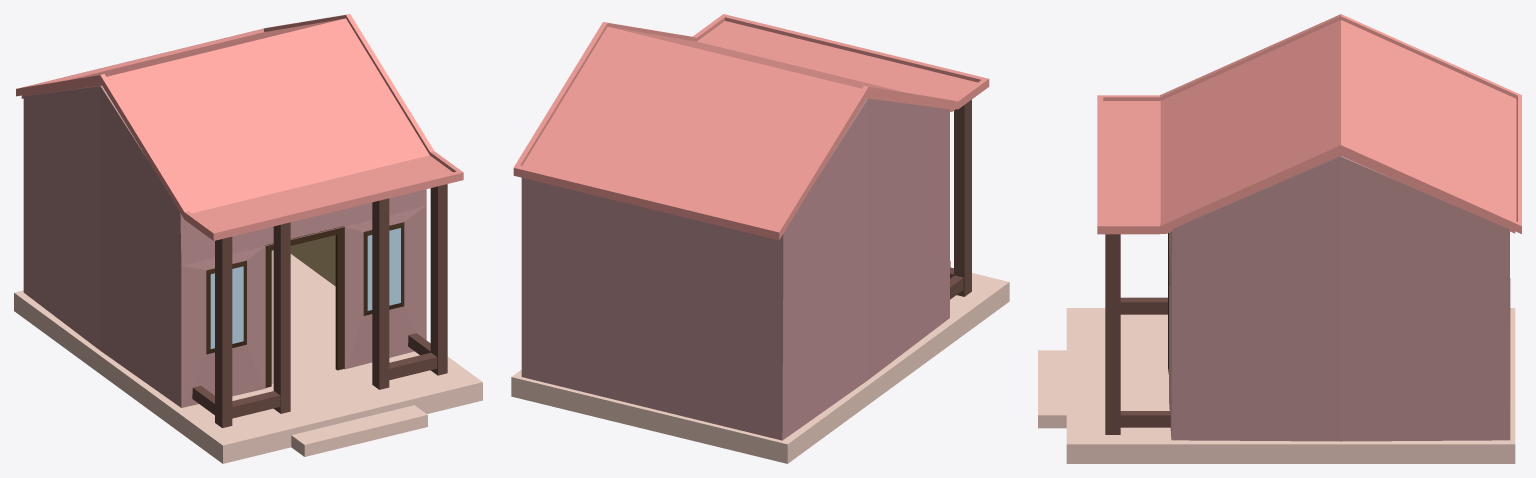
The model's file is REMAKE_pantry_3.fbx.
The picture shows the model from 3 angles, left to right: view 1: azimuth 30°, elevation 25°; view 2: azimuth 150°, elevation 25°; view 3: azimuth 270°, elevation 25°; orthographic projection. The views are drawn at different scales.
Visible parts, largest first — view 1: pantry.001; view 2: pantry.001; view 3: pantry.001.
Part boxes in pixels (x1=…): pantry.001: x1=14, y1=14, x2=482, y2=463; pantry.001: x1=511, y1=14, x2=1009, y2=463; pantry.001: x1=1038, y1=14, x2=1521, y2=463.
Size of the model in its own units: 400 by 433 by 600.
